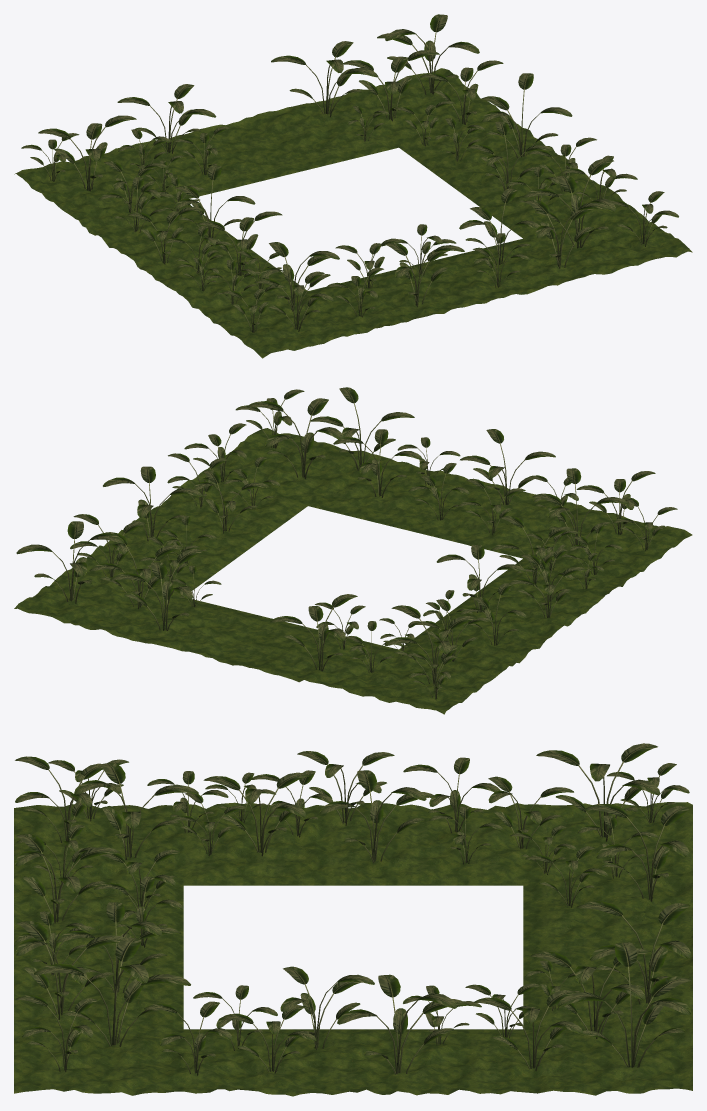
File: border.glb
3 views of the same model, one above another, from view 1: azimuth 30°, elevation 25°; view 2: azimuth 150°, elevation 25°; view 3: azimuth 270°, elevation 25° (orthographic). The views are drawn at different scales.
Parts seen in each view (by area): view 1: Ground, Plants; view 2: Ground, Plants; view 3: Ground, Plants.
Part boxes in pixels (x1,y1,x2,y2): Ground: (14,68,692,358); Plants: (21,14,678,332); Ground: (14,428,692,714); Plants: (16,387,677,699); Ground: (14,802,692,1096); Plants: (15,743,691,1075).
Size of what is drawn, in the model's own units: 64 by 11.18 by 64.
Materials: 3 (3 with a texture image).
